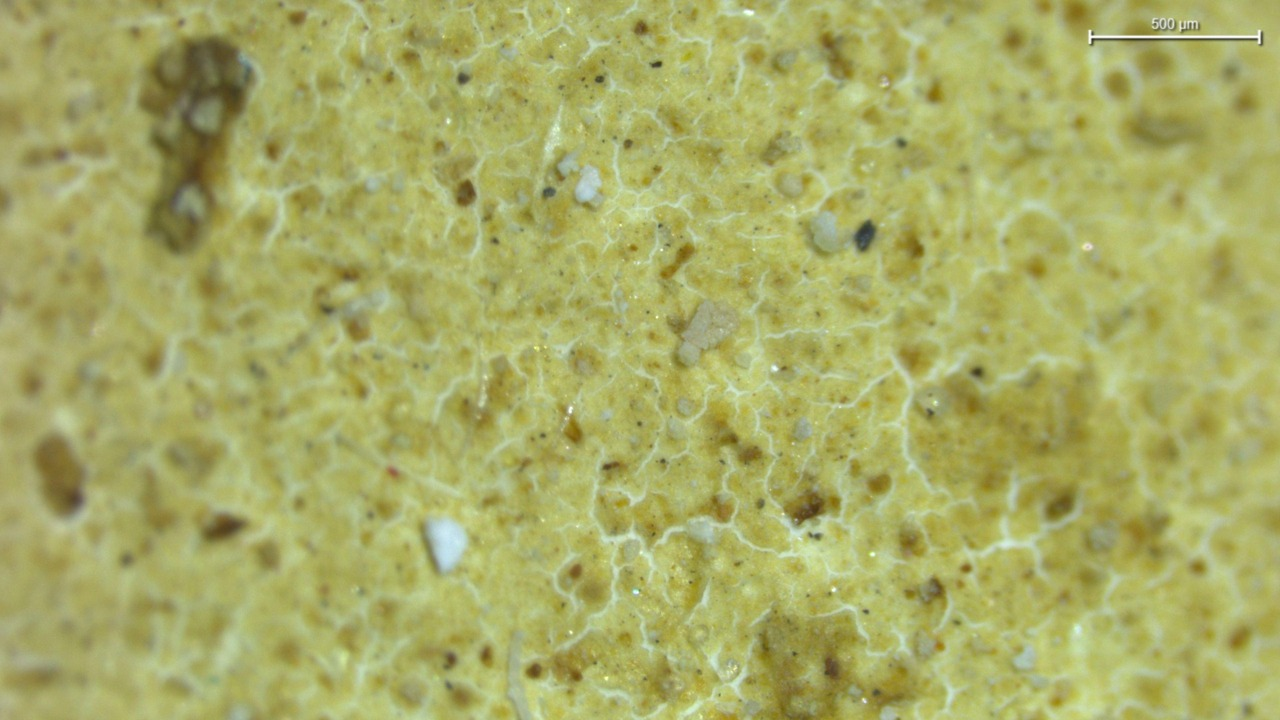microplastic_fragment: (423, 518, 468, 574), (810, 211, 839, 252)
